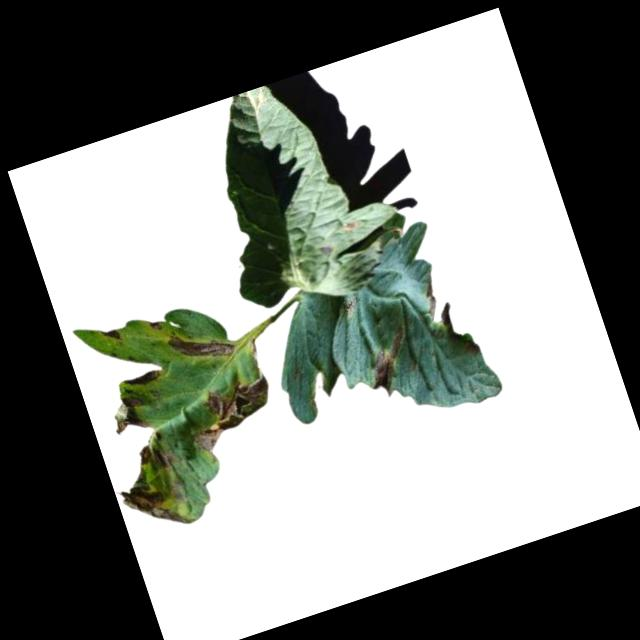Early_blight: (181, 372, 283, 455), (116, 469, 191, 542), (355, 324, 420, 396), (163, 315, 237, 375), (102, 389, 154, 440), (134, 436, 180, 480), (121, 366, 162, 391), (100, 323, 124, 344), (338, 215, 363, 233), (146, 316, 163, 332), (316, 241, 334, 256)
